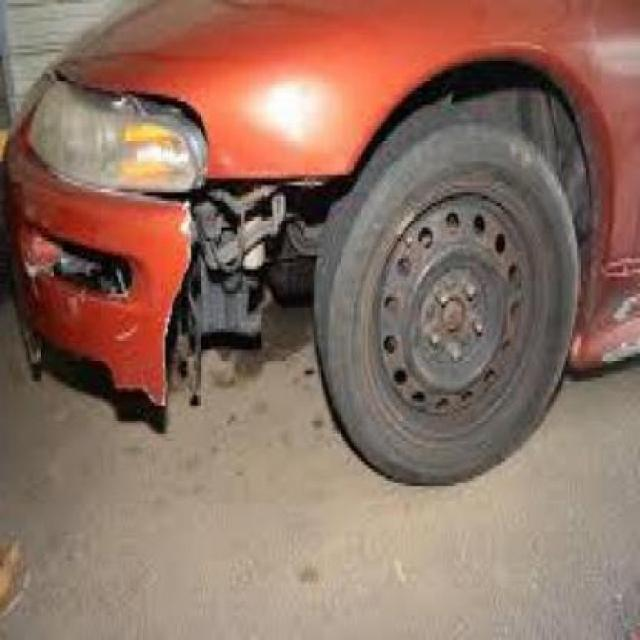damage: (25, 172, 347, 399)
